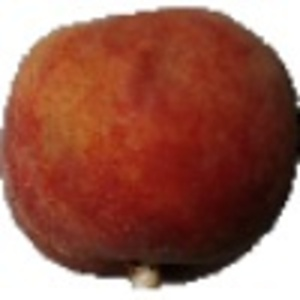pêssego: (1, 5, 300, 293)
